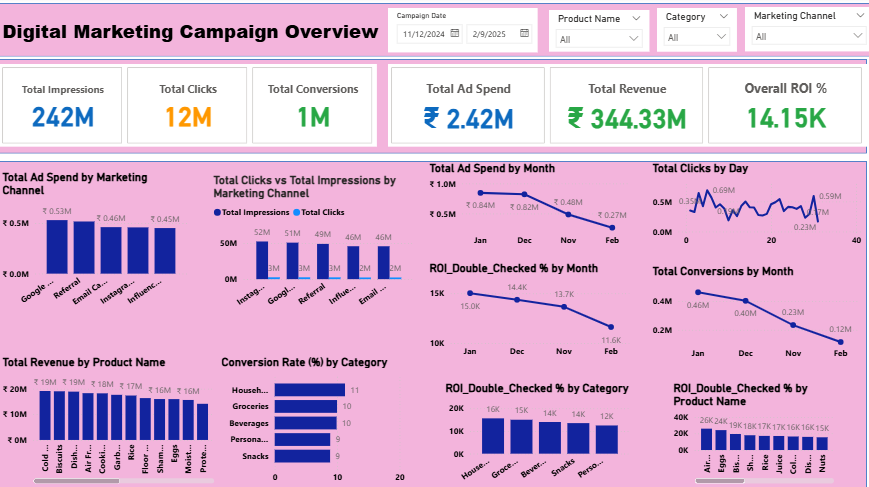

The page's visual inventory and layout, read from the dashboard file:
{"tool":"powerbi","page":{"name":"DASHBOARD","canvas":[1280,720],"ordinal":0},"visuals":[{"type":"shape","box":[0,8.6,1280,78.5],"z":0},{"type":"textbox","box":[0,26.7,805.3,53.3],"z":1000},{"type":"shape","box":[0,240,1270,480],"z":2000},{"type":"shape","box":[0,90,1270,138.3],"z":3000},{"type":"slicer","fields":{"Values":["marketing.Campaign Date"]},"box":[569.3,16,218.7,65.3],"z":4000},{"type":"slicer","fields":{"Values":["marketing.Product Name"]},"box":[805.3,18.7,146.7,61.3],"z":5000},{"type":"slicer","fields":{"Values":["marketing.Category"]},"box":[963.2,15.7,117,64.2],"z":6000},{"type":"slicer","fields":{"Values":["marketing.Marketing Channel"]},"box":[1092,14.7,188,65.3],"z":7000},{"type":"cardVisual","fields":{"Data":["marketing.Total Ad Spend","marketing.Total Revenue","marketing.Overall ROI"]},"box":[569.3,98,701,121.5],"z":8000},{"type":"cardVisual","fields":{"Data":["marketing.Total Impressions","marketing.Total Clicks","marketing.Total Conversions"]},"box":[0,98,553.2,121.5],"z":9000},{"type":"columnChart","fields":{"Category":["marketing.Marketing Channel"],"Y":["marketing.Total Ad Spend"]},"box":[0,253.3,280,211.7],"z":10000},{"type":"clusteredColumnChart","title":"Total Clicks vs Total Impressions by Marketing Channel","fields":{"Y":["marketing.Total Impressions","marketing.Total Clicks"],"Category":["marketing.Marketing Channel"]},"box":[308.2,256.9,303.9,208.3],"z":11000},{"type":"barChart","fields":{"Category":["marketing.Category"],"Y":["marketing.Conversion Rate (%)"]},"box":[320,523.3,281.7,196.7],"z":12000},{"type":"columnChart","fields":{"Category":["marketing.Product Name"],"Y":["marketing.Total Revenue"]},"box":[0,523.3,320,193.3],"z":13000},{"type":"lineChart","fields":{"Category":["Date_Table.Day"],"Y":["marketing.Total Clicks"]},"box":[951.7,240,318.3,133.3],"z":14000},{"type":"lineChart","fields":{"Y":["marketing.Total Ad Spend"],"Category":["Date_Table.Month"]},"box":[625,240,303.3,133.3],"z":15000},{"type":"lineChart","fields":{"Category":["Date_Table.Month"],"Y":["marketing.Total Conversions"]},"box":[951.7,390,313.3,148.3],"z":16000},{"type":"lineChart","fields":{"Category":["Date_Table.Month"],"Y":["marketing.ROI_Double_Check"]},"box":[625,386.7,303.3,150],"z":17000},{"type":"columnChart","fields":{"Category":["marketing.Product Name"],"Y":["marketing.ROI_Double_Check"]},"box":[981.7,561.7,245,155],"z":18000},{"type":"clusteredColumnChart","fields":{"Category":["marketing.Category"],"Y":["marketing.ROI_Double_Check"]},"box":[648.3,561.7,280,158.3],"z":19000}]}

Visuals, with their boxes in screenshot pixels (x1, y1, x2, y2), scaled from the page's 1280x720 canvas onto the 869x487 screenshot:
shape: detection(0, 6, 868, 59)
textbox: detection(0, 18, 547, 54)
shape: detection(0, 162, 862, 486)
shape: detection(0, 61, 862, 154)
slicer - marketing.Campaign Date: detection(387, 11, 535, 55)
slicer - marketing.Product Name: detection(547, 13, 646, 54)
slicer - marketing.Category: detection(654, 11, 733, 54)
slicer - marketing.Marketing Channel: detection(741, 10, 868, 54)
cardVisual - marketing.Total Ad Spend x marketing.Total Revenue: detection(387, 66, 862, 148)
cardVisual - marketing.Total Impressions x marketing.Total Clicks: detection(0, 66, 376, 148)
columnChart - marketing.Marketing Channel x marketing.Total Ad Spend: detection(0, 171, 190, 315)
"Total Clicks vs Total Impressions by Marketing Channel" clusteredColumnChart: detection(209, 174, 416, 315)
barChart - marketing.Category x marketing.Conversion Rate (%): detection(217, 354, 408, 486)
columnChart - marketing.Product Name x marketing.Total Revenue: detection(0, 354, 217, 485)
lineChart - Date_Table.Day x marketing.Total Clicks: detection(646, 162, 862, 252)
lineChart - marketing.Total Ad Spend x Date_Table.Month: detection(424, 162, 630, 252)
lineChart - Date_Table.Month x marketing.Total Conversions: detection(646, 264, 859, 364)
lineChart - Date_Table.Month x marketing.ROI_Double_Check: detection(424, 262, 630, 363)
columnChart - marketing.Product Name x marketing.ROI_Double_Check: detection(666, 380, 833, 485)
clusteredColumnChart - marketing.Category x marketing.ROI_Double_Check: detection(440, 380, 630, 486)
